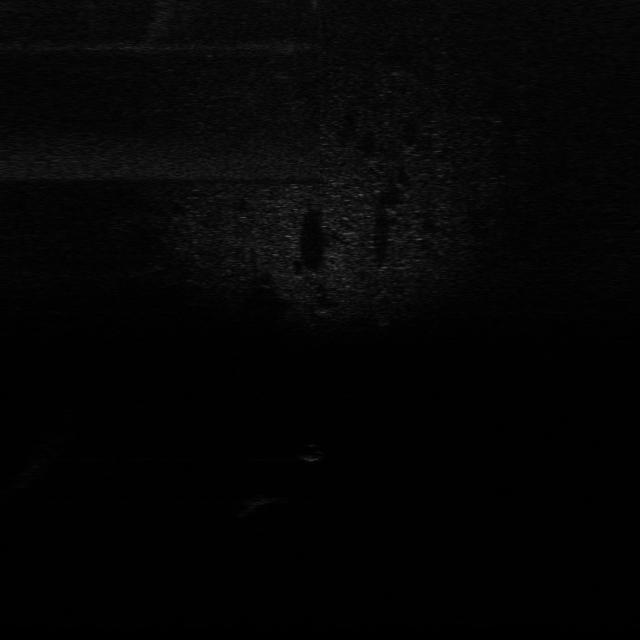ball: (300, 442, 324, 464)
square cage: (240, 491, 284, 506)
tyre: (372, 290, 396, 329)
